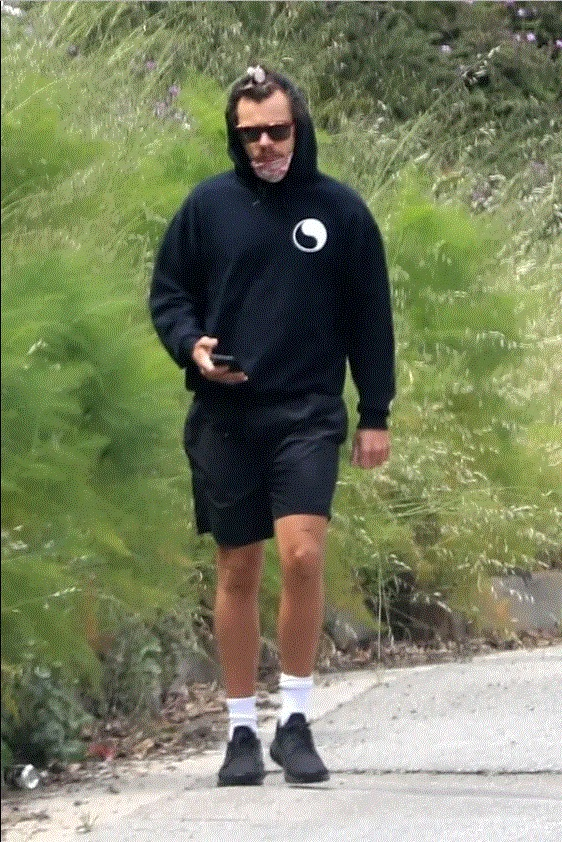mask_weared_incorrect: (239, 111, 296, 176)
